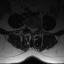CCS_normal: (31, 24, 33, 35)
LFS_normal: (36, 24, 38, 32)
LLS_normal: (33, 24, 36, 34)
RFS_normal: (27, 23, 29, 31)
RLS_normal: (29, 24, 31, 33)
